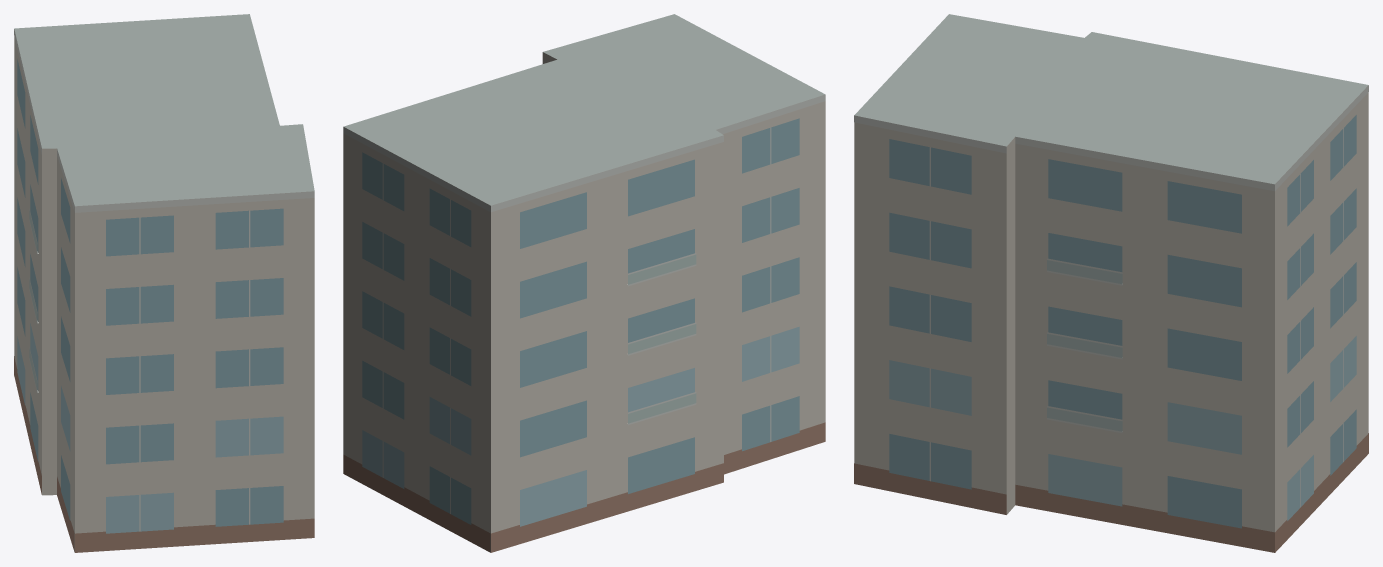
File: survey-upis-32524921.glb
3 renders of one model, left to right at view 1: azimuth 30°, elevation 25°; view 2: azimuth 150°, elevation 25°; view 3: azimuth 270°, elevation 25°, orthographic. The views are drawn at different scales.
Visible parts, largest first — view 1: survey-upis-32524921.tmp; view 2: survey-upis-32524921.tmp; view 3: survey-upis-32524921.tmp.
Part boxes in pixels (box(x1,y1,x2,y2)): survey-upis-32524921.tmp: box(14, 14, 314, 552); survey-upis-32524921.tmp: box(343, 14, 825, 552); survey-upis-32524921.tmp: box(854, 14, 1368, 552).
Bounding box in the file's own units: 12.75 × 12.85 × 16.27.
